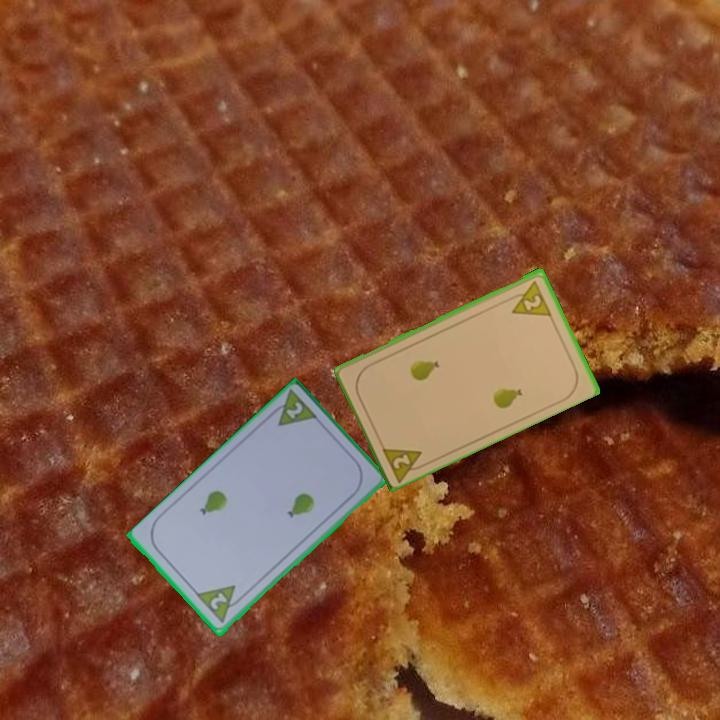2p: (265, 387, 321, 430), (378, 441, 431, 483), (504, 276, 554, 319), (206, 589, 230, 613)
